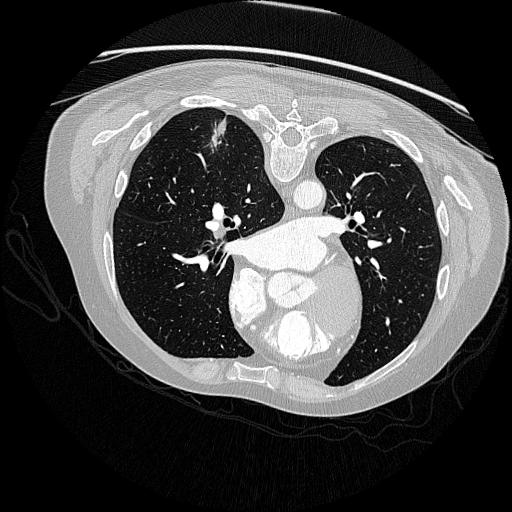nodule: (204, 124, 227, 147)
